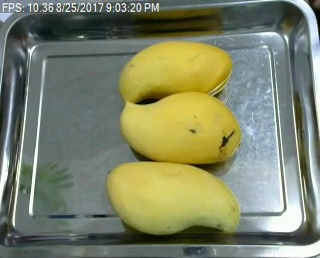Mango: (105, 159, 242, 236), (119, 90, 241, 164), (114, 41, 235, 103)
